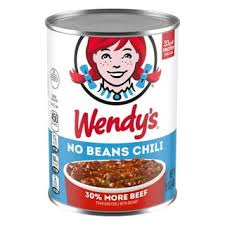can: (43, 7, 179, 217)
